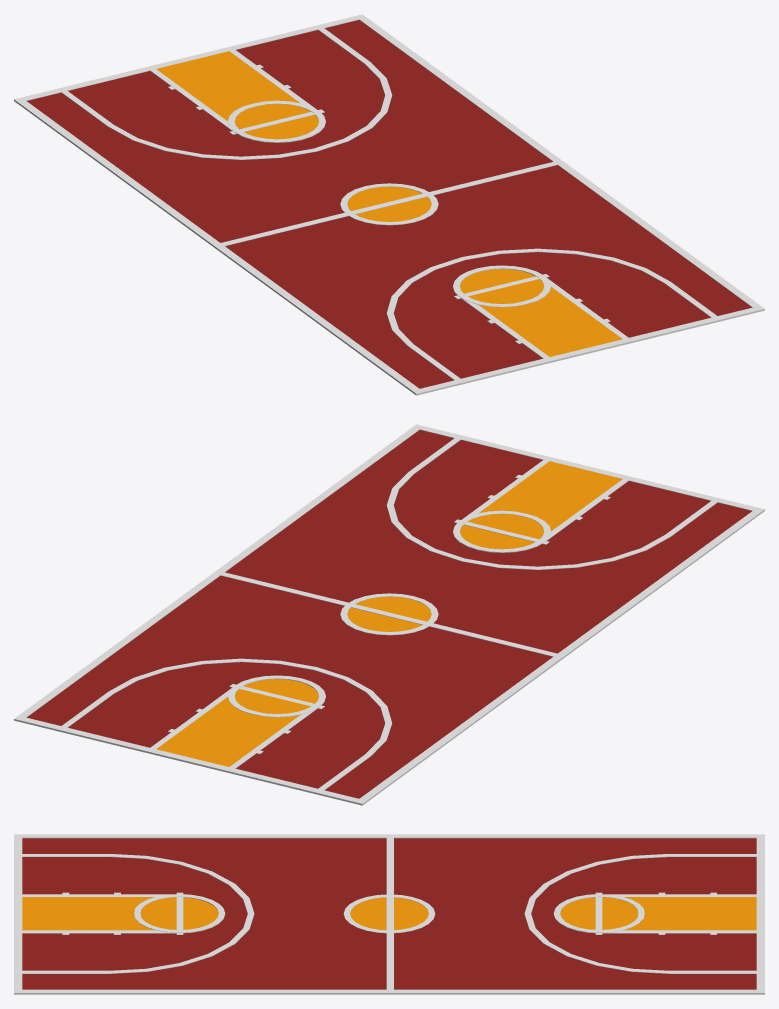
File: Basketball_Court_4.fbx
The picture shows the model from 3 angles, top to bottom: view 1: azimuth 30°, elevation 25°; view 2: azimuth 150°, elevation 25°; view 3: azimuth 270°, elevation 25°; orthographic projection. The views are drawn at different scales.
Parts seen in each view (by area): view 1: Basketball_Court_4; view 2: Basketball_Court_4; view 3: Basketball_Court_4.
Part boxes in pixels (x1,y1,x2,y2): Basketball_Court_4: [14, 14, 764, 395]; Basketball_Court_4: [14, 424, 764, 805]; Basketball_Court_4: [14, 834, 764, 994].
Bounding box in the file's own units: 800 × 4.45 × 1600.
